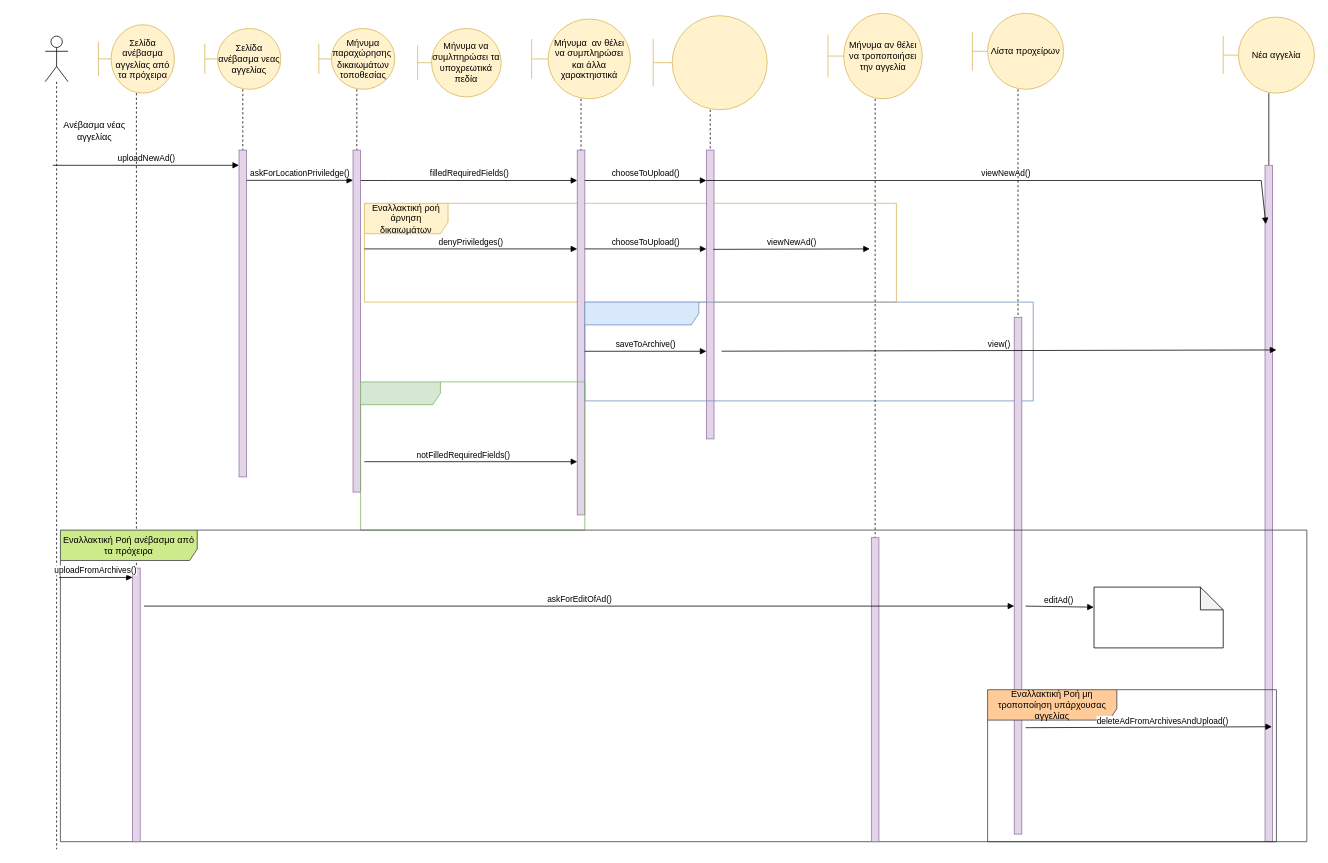
Image size: 1328x863. Some labels were removed from this diagram. The centre of each missing label's shape, as x and y in pixels:
Διαχειριστής ακινήτου: point (56, 58)
Εναλλακτική ροή: point (472, 455)
Εναλλακτική ροή αποήκευση στα πρόχειρα: point (808, 351)
Μήνυμα αν θέλει να ανεβάσει την αγγελία ή να την αποθηκεύσει στις πρόχειρες: point (709, 62)
Μεταφορά ελέγχου στο useCase τροποποίηση αγγελίας: point (1158, 617)
